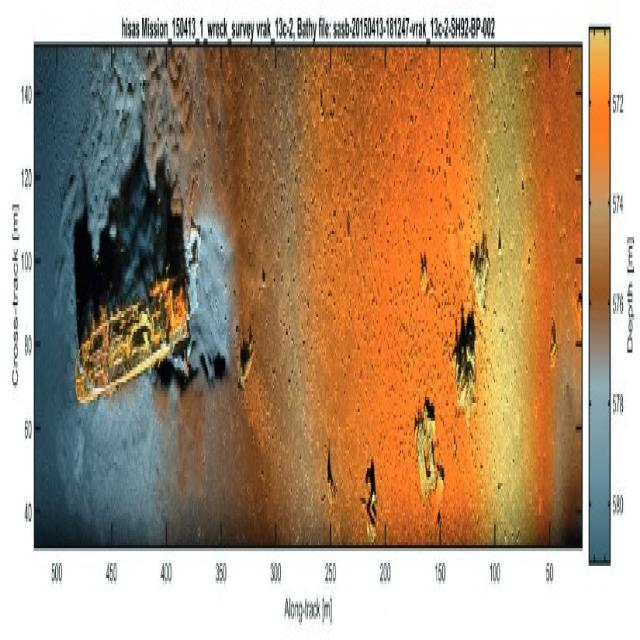ship: (71, 272, 191, 412)
